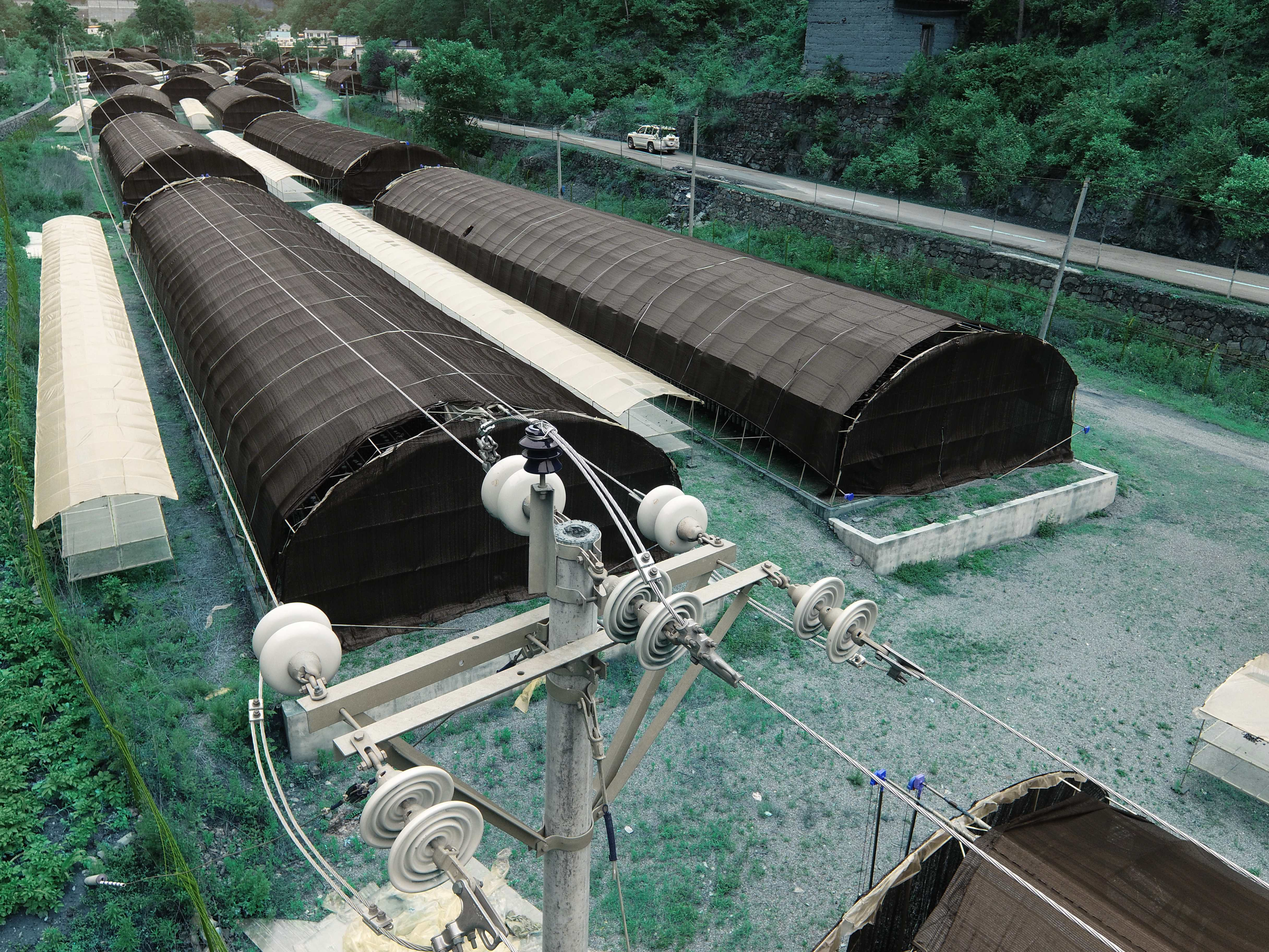severe_soiling_no_discharge_whole: (598, 564, 709, 675)
